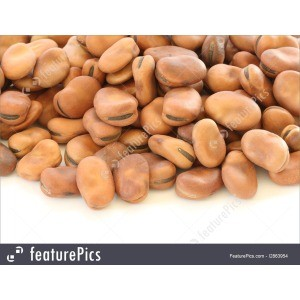beans_brain food: (50, 58, 219, 143)
